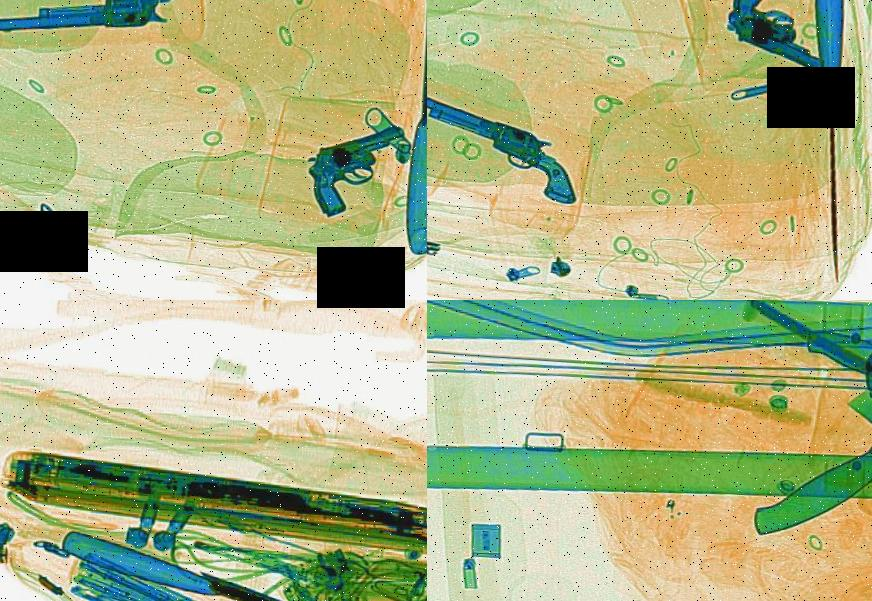Gun: (427, 80, 608, 207), (287, 115, 427, 226), (0, 0, 211, 49)
Knife: (696, 300, 872, 564), (48, 523, 423, 601), (791, 0, 872, 281), (729, 300, 872, 448), (704, 0, 860, 76), (790, 319, 872, 445), (405, 0, 427, 254)
